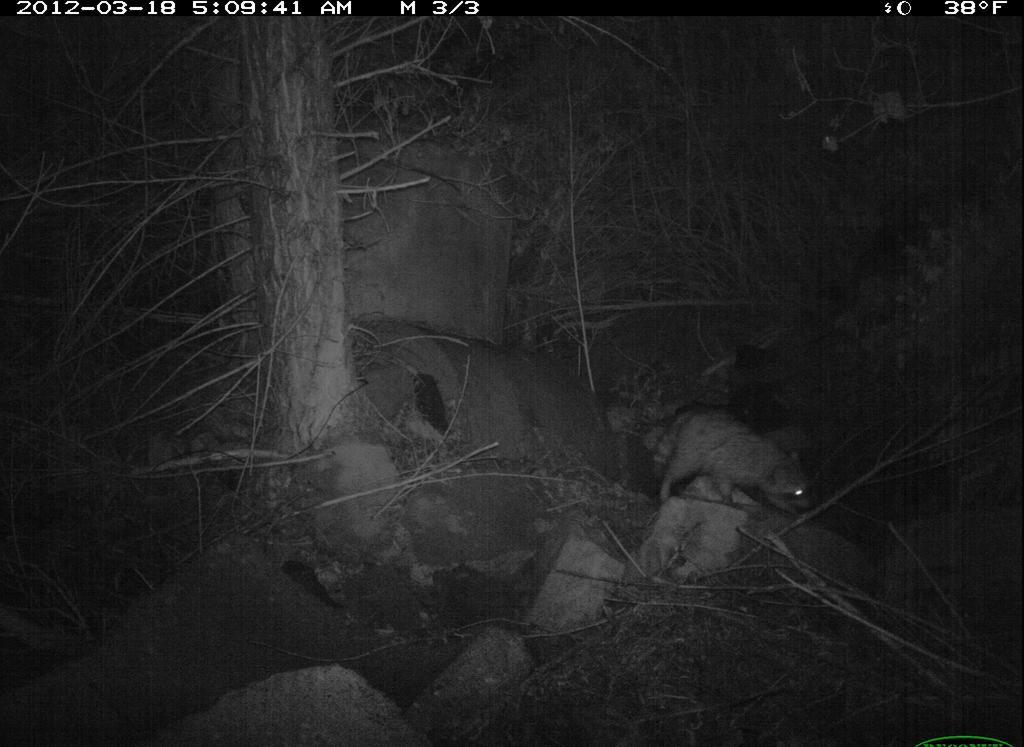raccoon: (639, 397, 840, 532)
